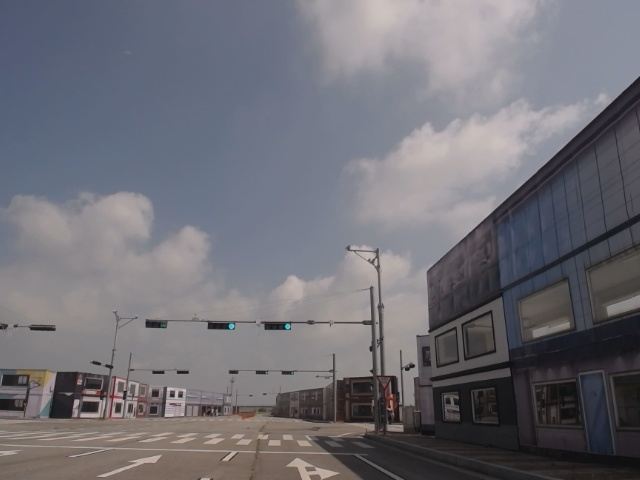straight_green_4: (209, 321, 236, 331), (263, 322, 291, 330)
